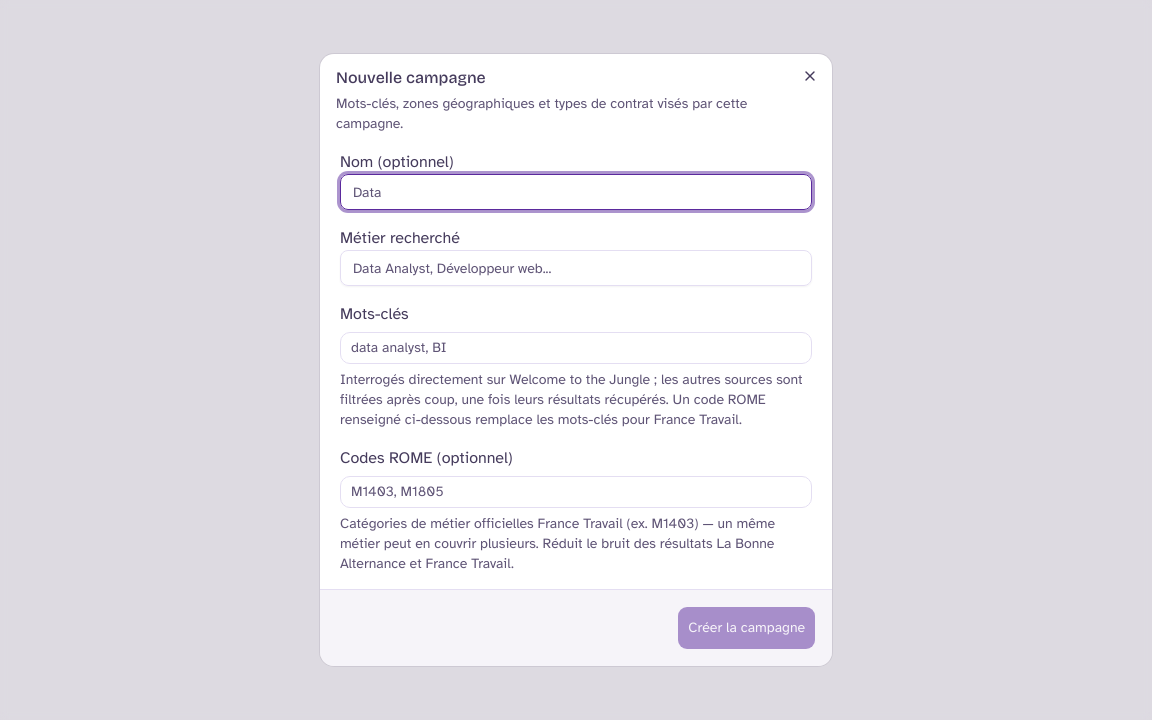
Test: CampaignFormDialog — métier recherché (recherche assistée sur le référentiel ROME) › shows a clear message when nothing matches, without blocking the form
Step 1. Type "xyzabc" into the field labelled "Métier recherché" → (576, 268), box 340,250 -> 812,286
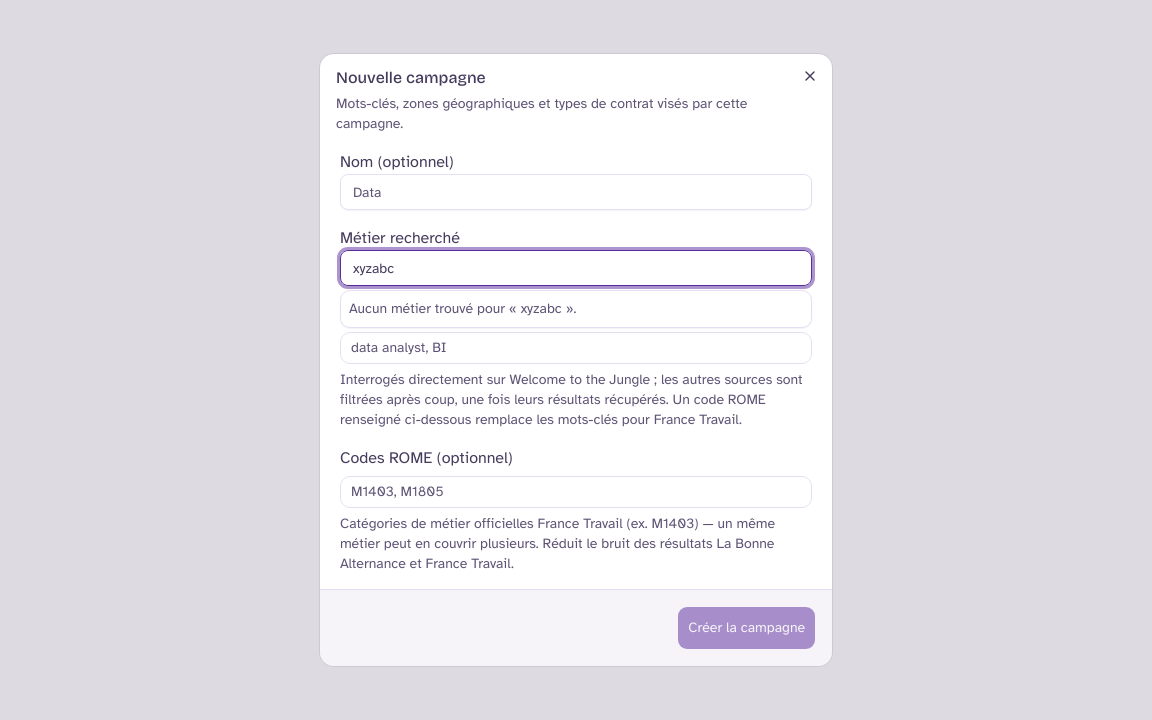
Expected: the text "Aucun métier trouvé pour « xyzabc »." is shown, 349,300 -> 576,317
